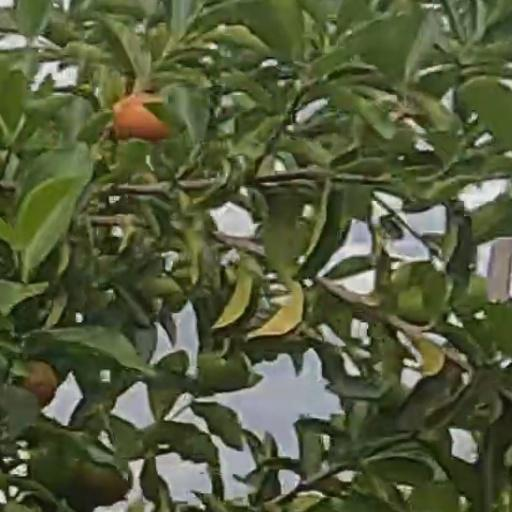acerola: (113, 92, 165, 138), (24, 361, 56, 406)
